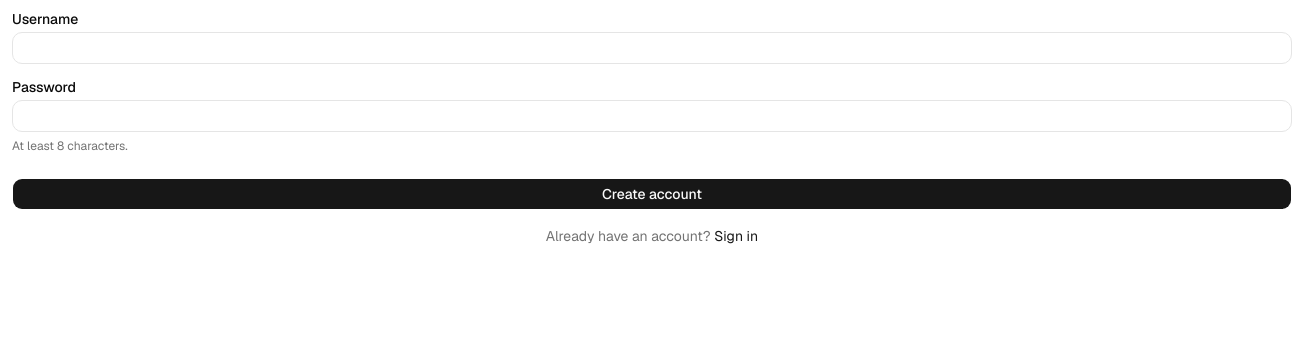
Scenario: RegisterForm › validation errors (422) › renders server's 422 validation detail as-is
Type "testuser" into the field labelled "Username".
click(652, 48); type("testuser")  # box [12,32,1292,64]
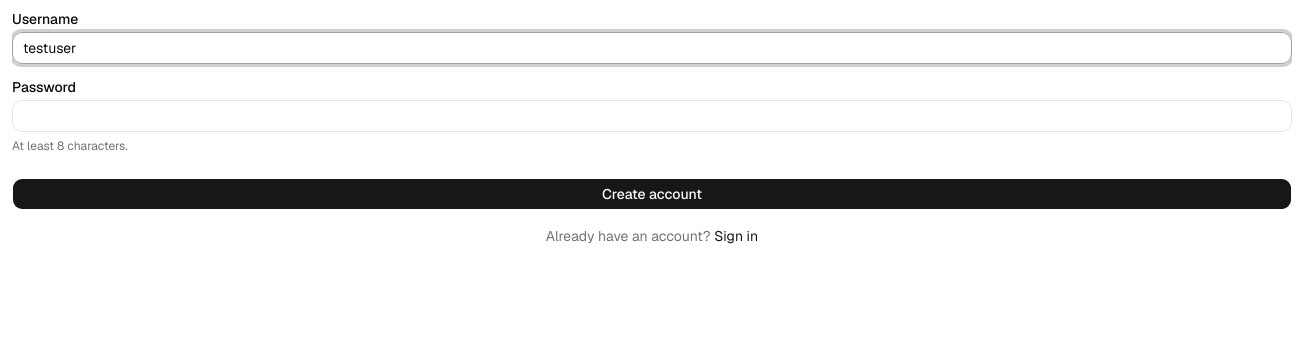
Type "short" into the password field labelled "Password".
click(652, 116); type("short")  # box [12,100,1292,132]
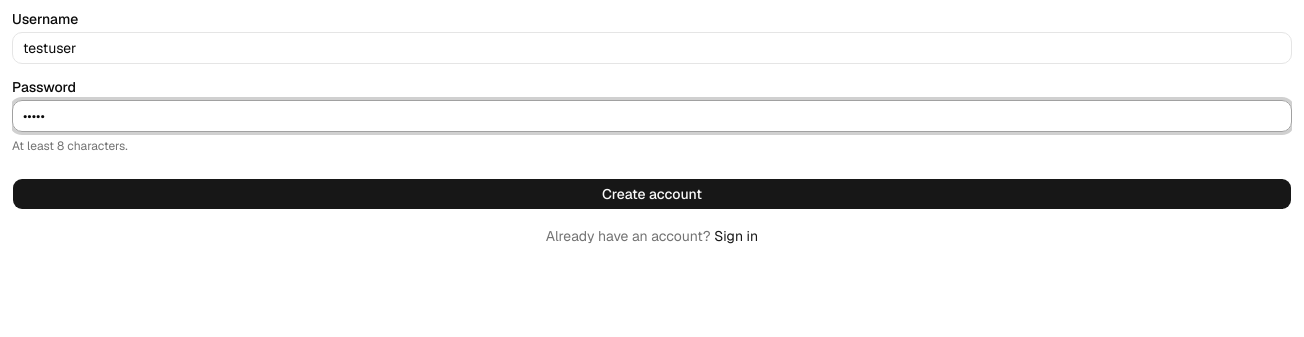
Click the button "Create account".
click(652, 194)  # box [12,178,1292,210]
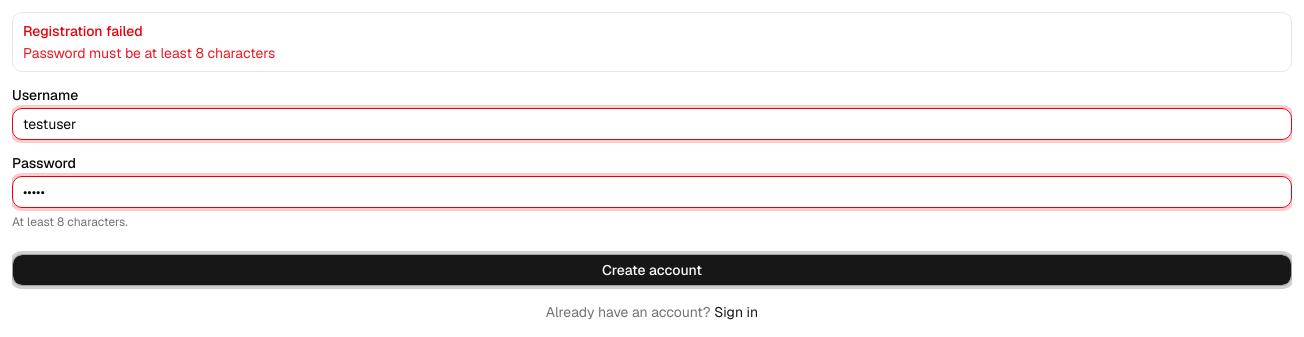
Expected: the text "Password must be at least 8 characters" is shown, [23,44,275,62]
